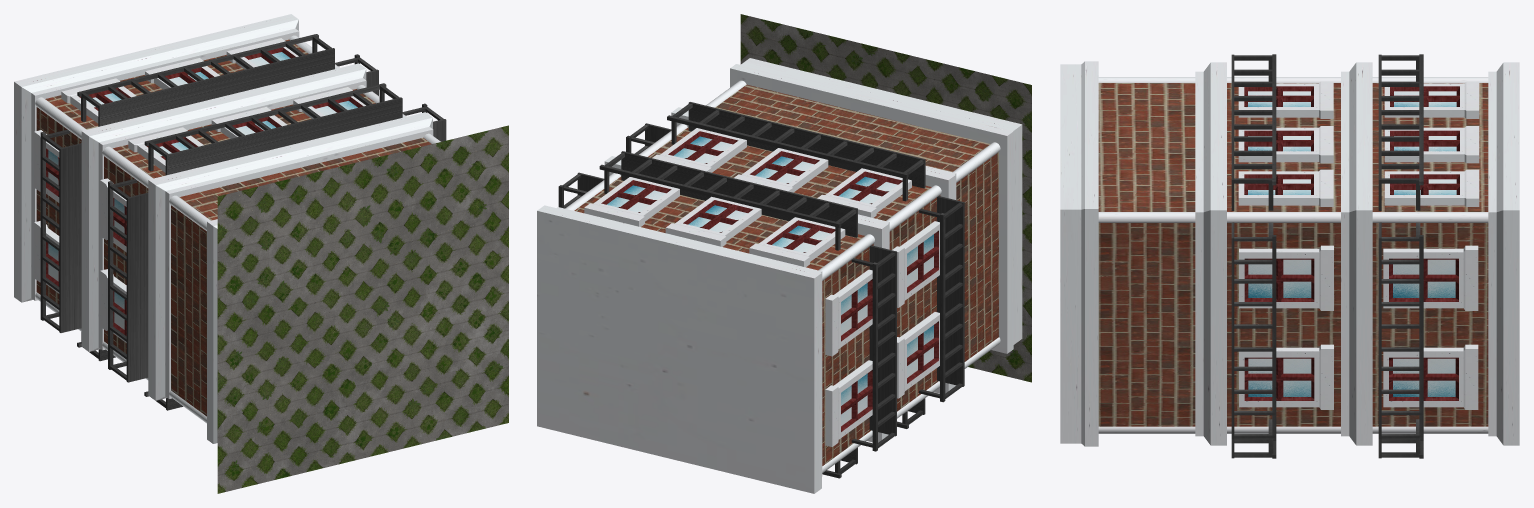
File: buildingfachero.fbx
The picture shows the model from 3 angles, left to right: view 1: azimuth 30°, elevation 25°; view 2: azimuth 150°, elevation 25°; view 3: azimuth 270°, elevation 25°; orthographic projection. The views are drawn at different scales.
Parts seen in each view (by area): view 1: building; view 2: building; view 3: building.
Boxes of the visible parts, bbox=[...] form: building: bbox=[14, 14, 508, 493]; building: bbox=[537, 14, 1031, 493]; building: bbox=[1060, 54, 1519, 458].
Bounding box in the file's own units: 100 × 89.53 × 115.
